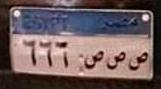6: (54, 39, 72, 69), (24, 38, 36, 67), (39, 40, 52, 66)
saad: (127, 49, 149, 72), (84, 50, 105, 70), (107, 51, 124, 71)
